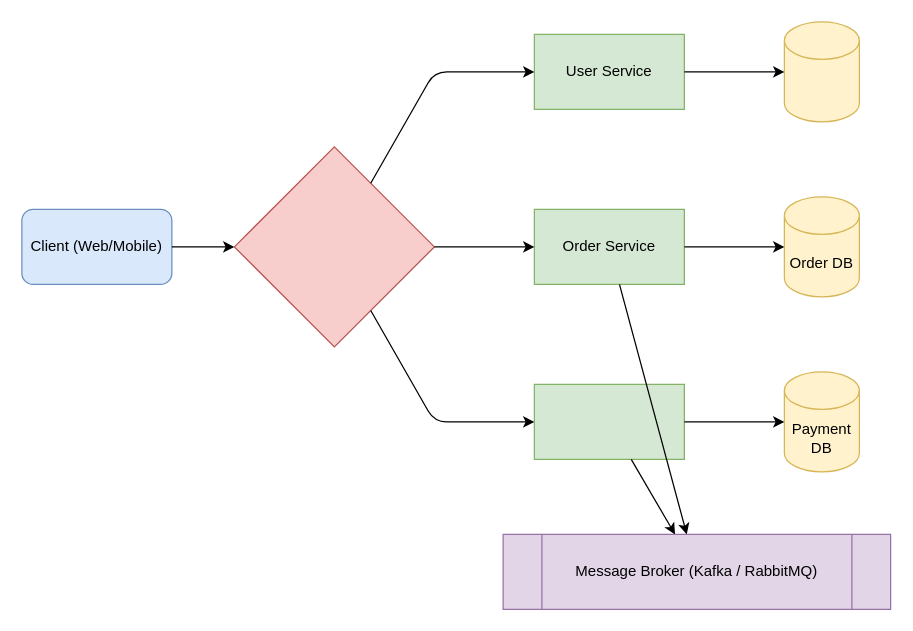
This 913x631 diagram has some shape labels left out. Here are the shapes that lost their labels. From the top down, the centre of each, then its label:
[821,71]: User DB
[333,246]: API GATEWAY (Auth, Routing, Rate Limit)
[608,421]: Payment Service
